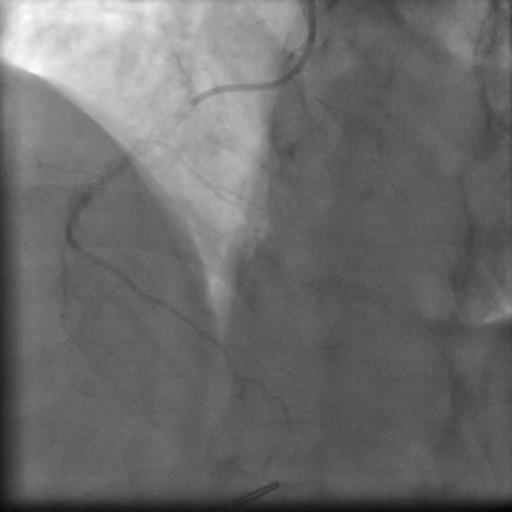Stenosis: (144, 104, 198, 137)
